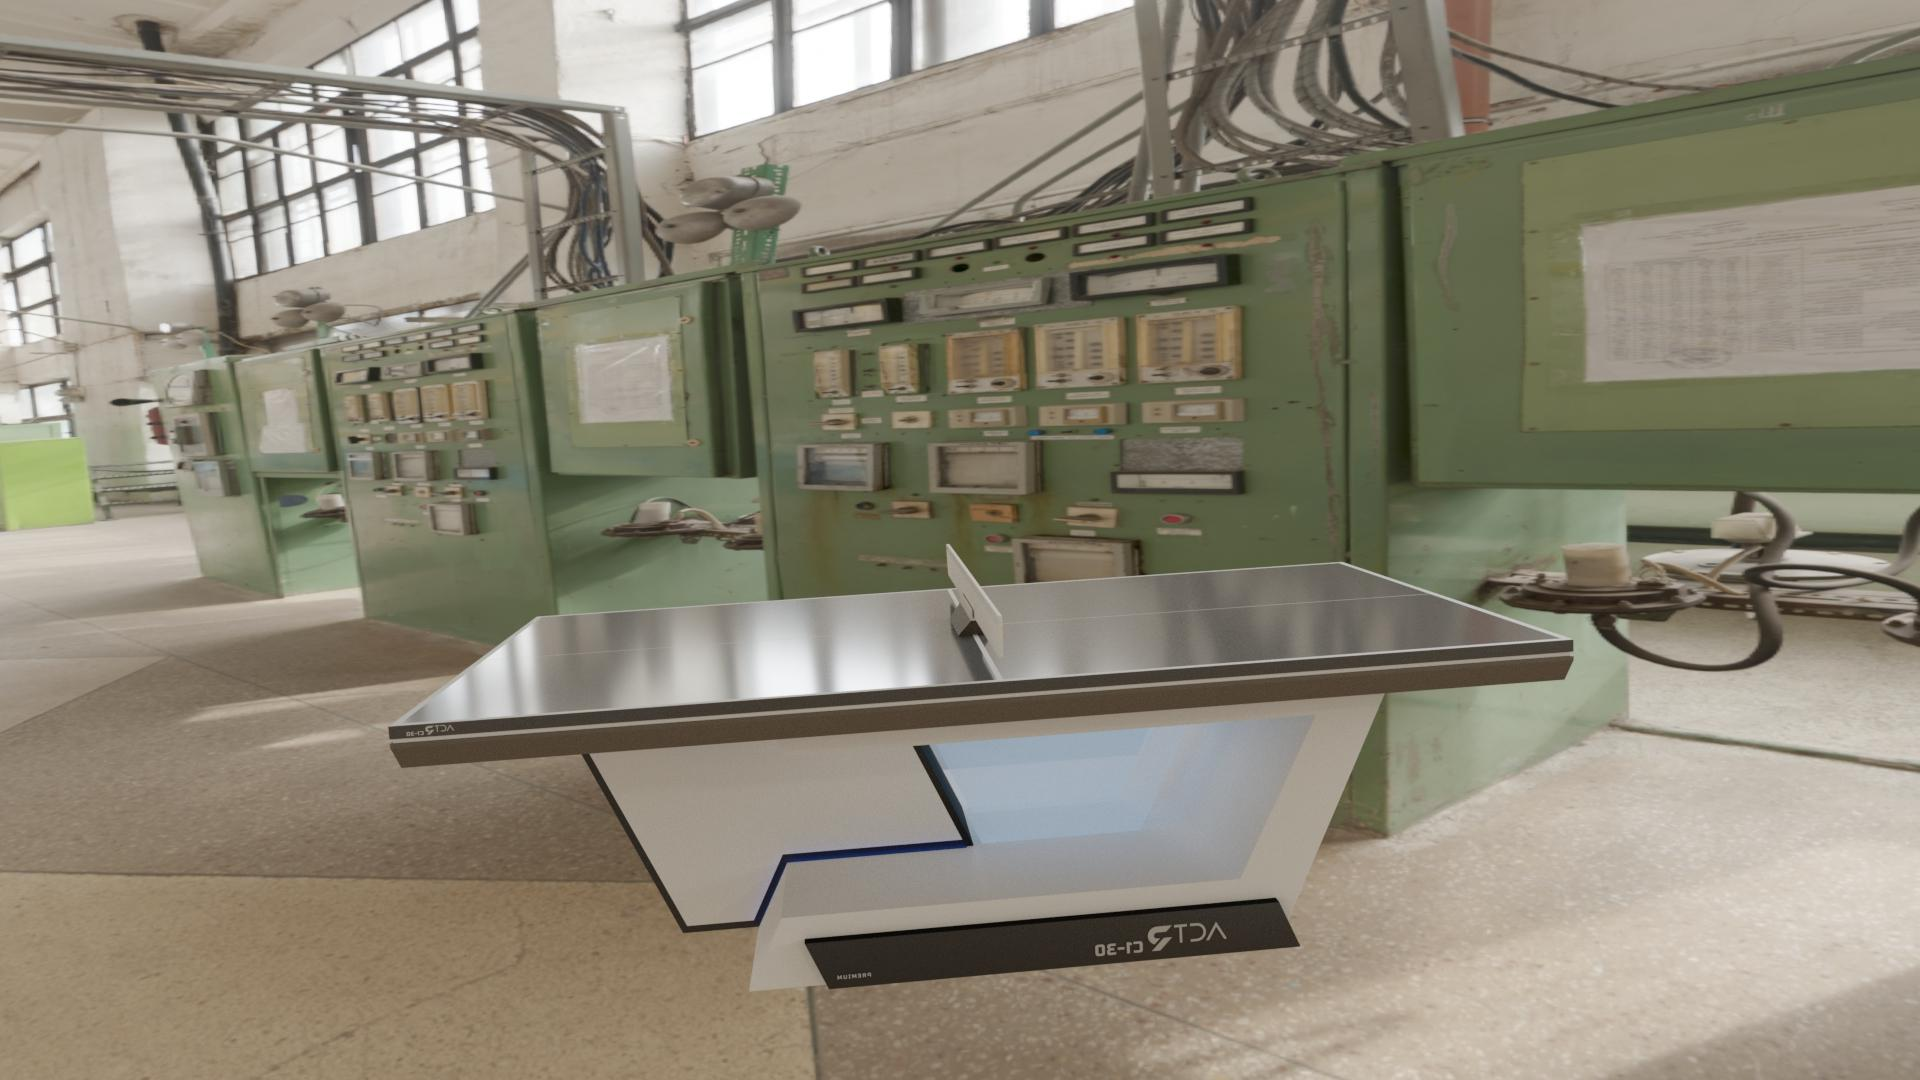table: (400, 563, 1561, 724)
